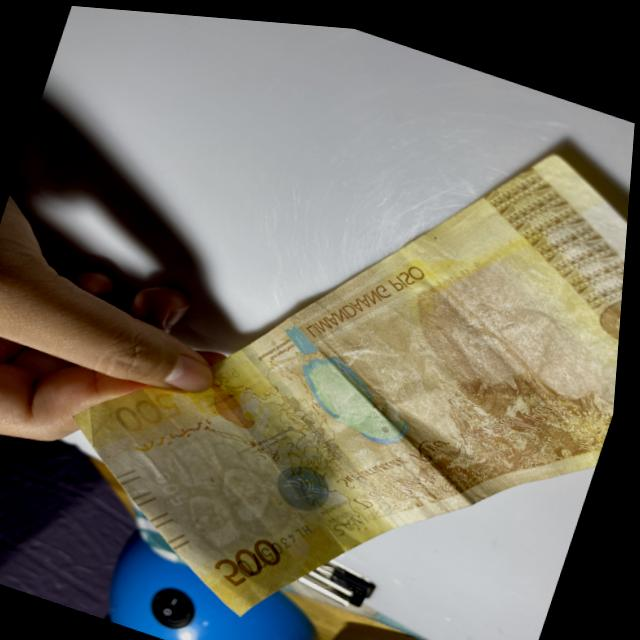500_big_parrot: (268, 314, 434, 449)
500_parrot_watermark: (202, 372, 276, 427)
value_watermark: (152, 460, 198, 505)
watermark: (156, 417, 318, 568)
